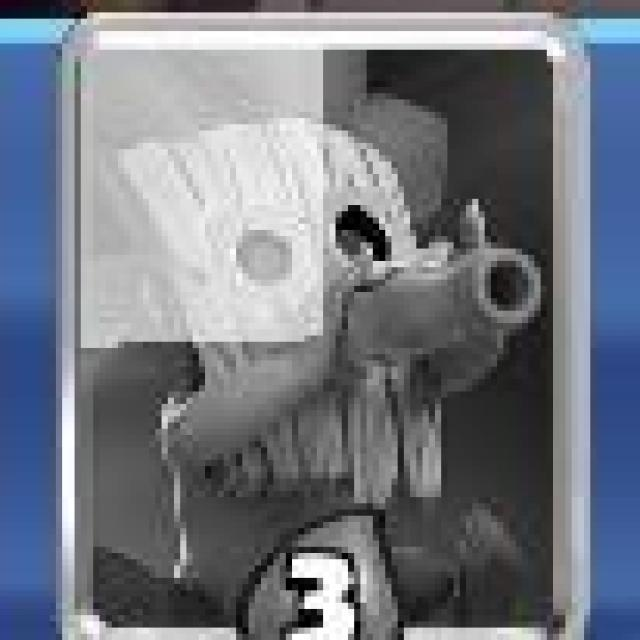Dart_Goblin: (56, 10, 592, 640)
